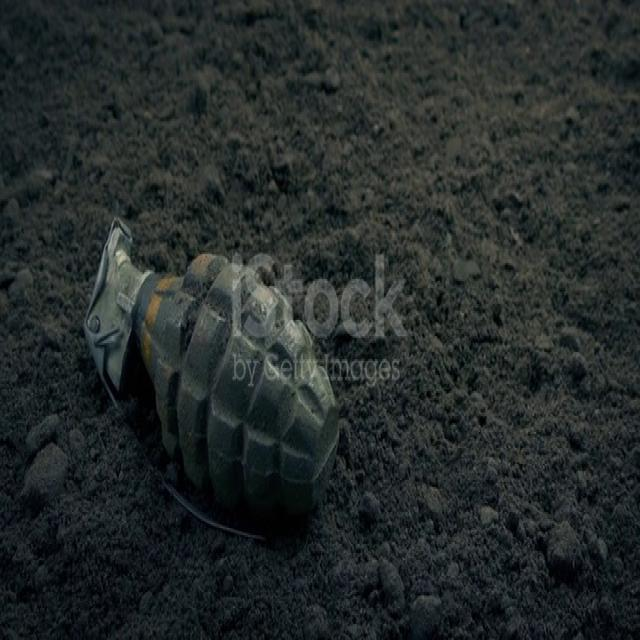grenade: (80, 216, 344, 548)
